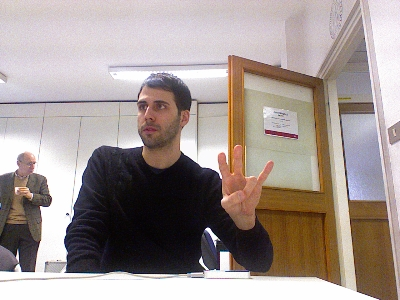观音: (214, 141, 275, 231)
